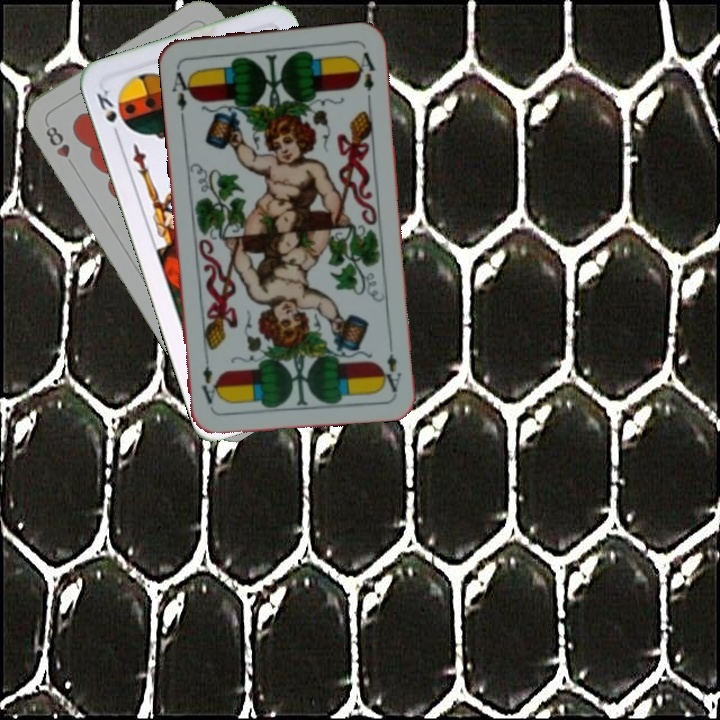EA: (378, 335, 404, 394), (168, 68, 196, 121)
H8: (41, 120, 79, 172)
SK: (92, 85, 122, 142)
